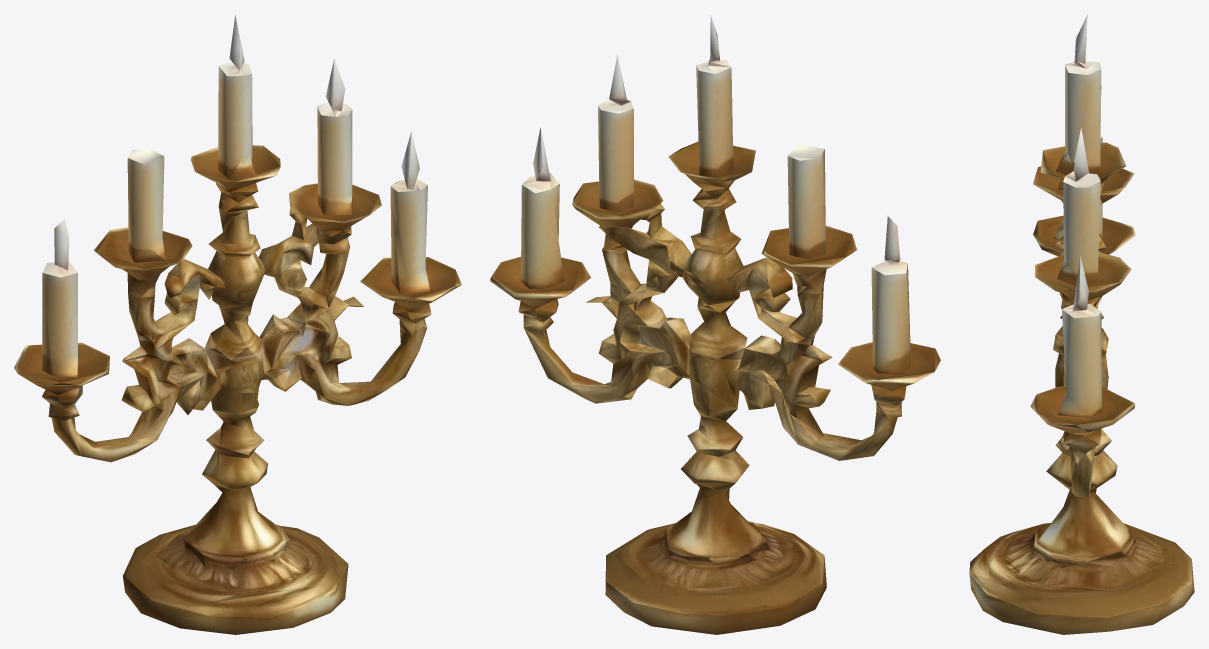
Rendered from candelabra.glb.
3 renders of one model, left to right at view 1: azimuth 30°, elevation 25°; view 2: azimuth 150°, elevation 25°; view 3: azimuth 270°, elevation 25°, orthographic.
Visible parts, largest first — view 1: model; view 2: model; view 3: model.
Part boxes in pixels (x1,y1,x2,y2): model: [14, 15, 461, 634]; model: [490, 15, 940, 634]; model: [969, 14, 1194, 634].
Bounding box in the file's own units: 1.51 × 1.9 × 0.6733.
Materials: 1 (1 with a texture image).
